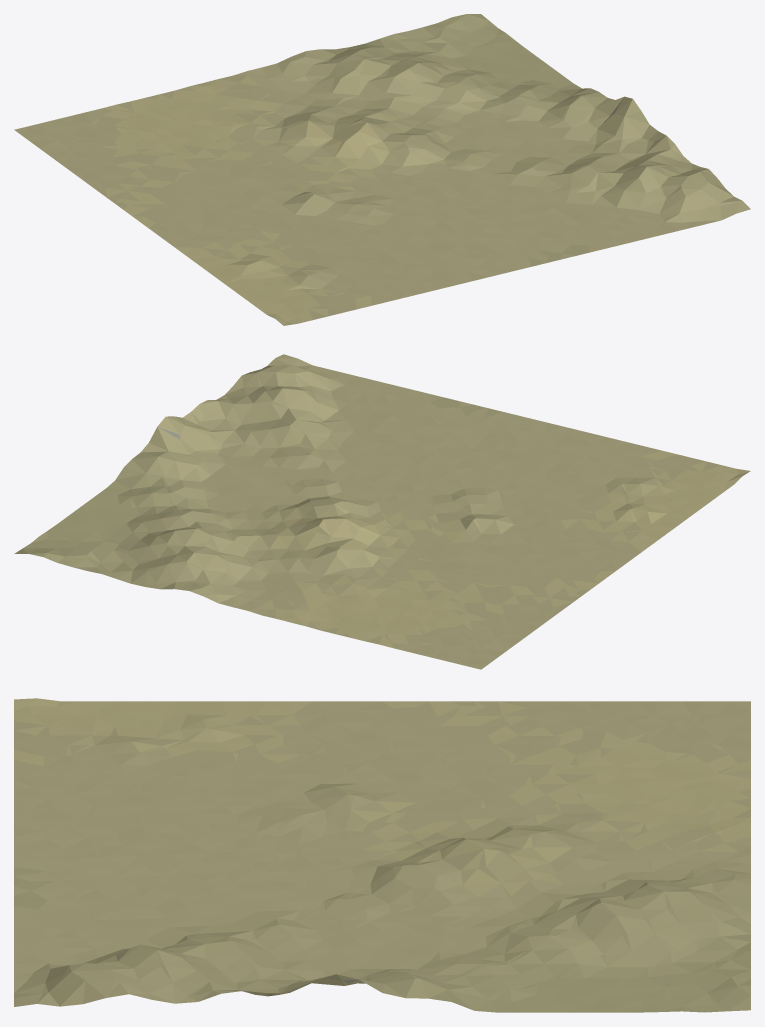
Rendered from Ground_3_-10.glb.
3 views of the same model, one above another, from view 1: azimuth 30°, elevation 25°; view 2: azimuth 150°, elevation 25°; view 3: azimuth 270°, elevation 25° (orthographic). The views are drawn at different scales.
Visible parts, largest first — view 1: Ground_3_-10; view 2: Ground_3_-10; view 3: Ground_3_-10.
Boxes of the visible parts, left/top/right/bottom form: Ground_3_-10: left=14, top=14, right=750, bottom=325; Ground_3_-10: left=14, top=354, right=750, bottom=669; Ground_3_-10: left=14, top=698, right=750, bottom=1012.
Size of the model in its own units: 768 by 44.19 by 768.
